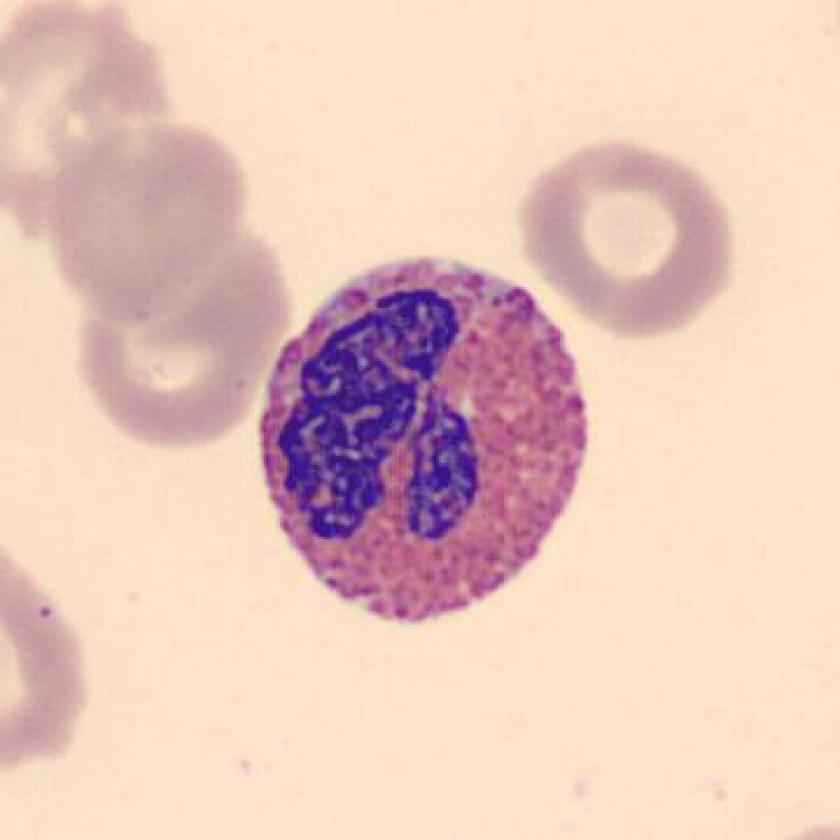eosinophil: (241, 237, 608, 635)
